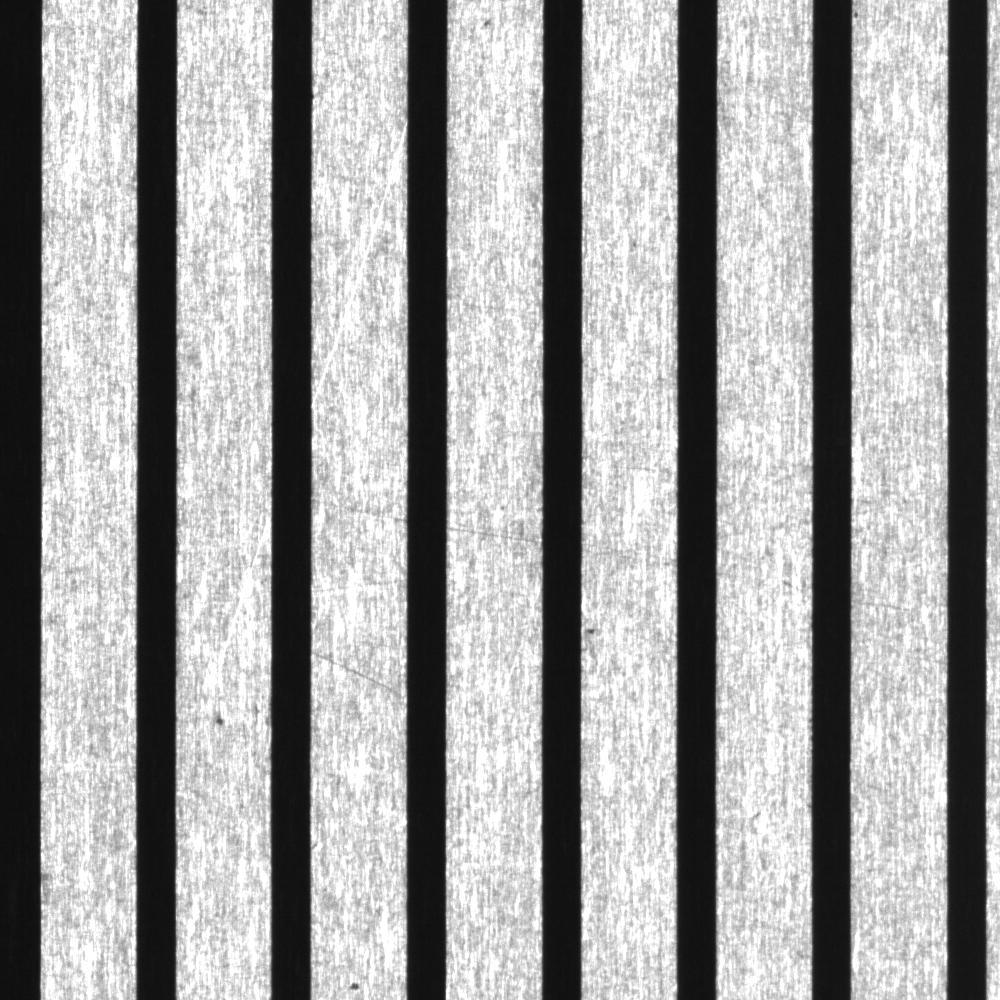Etching: (334, 968, 372, 998), (204, 707, 233, 731)
Pinhole: (583, 617, 603, 642)
Scar: (311, 632, 406, 713), (313, 470, 405, 550), (448, 509, 543, 571), (586, 528, 675, 568)
